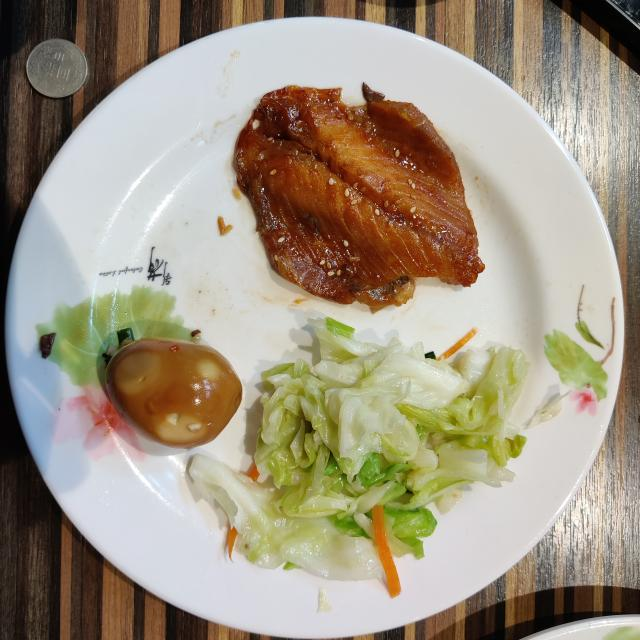Kabayaki sea bream fillet: (234, 85, 484, 310)
cabbage: (190, 318, 529, 580)
coin: (26, 39, 88, 98)
soy egg: (106, 338, 241, 449)
